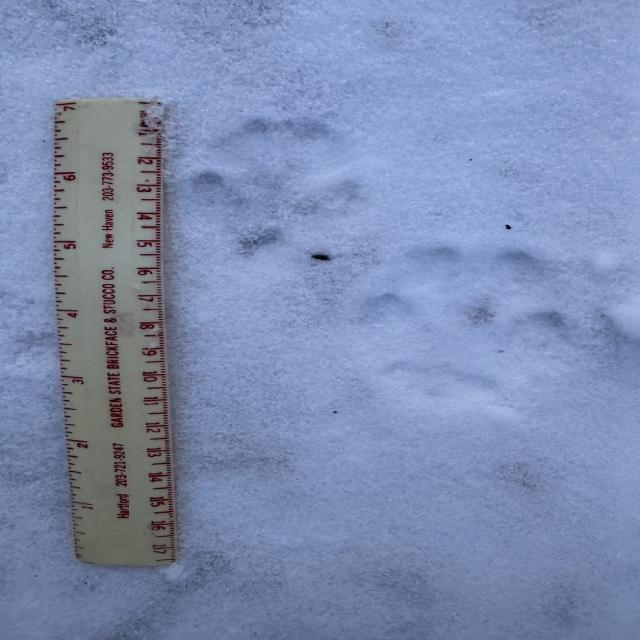canid: (352, 246, 580, 406), (194, 115, 358, 253)
